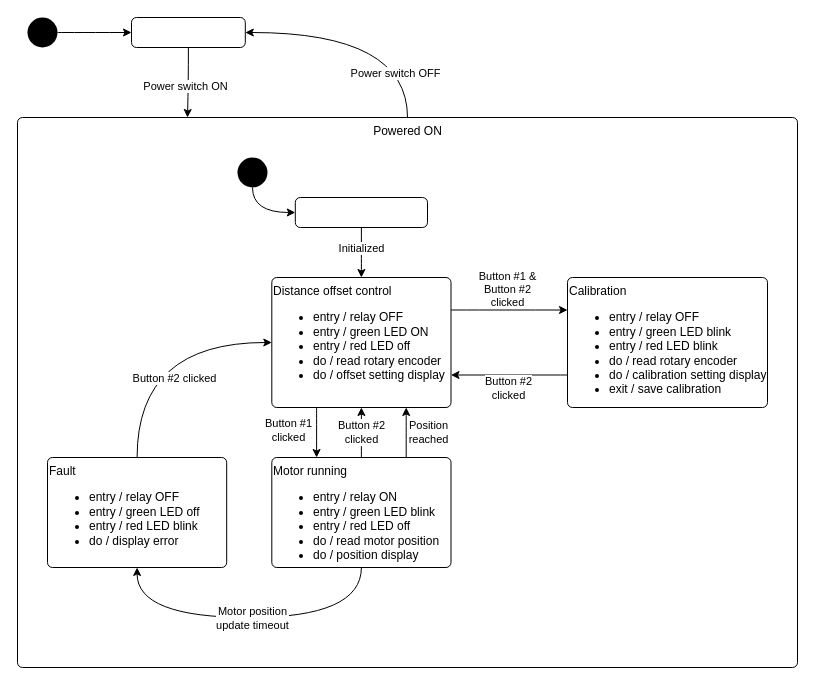
Some shapes in this 815 by 685 pixel diagram are drawn without their labels. Here are the shapes that lost their labels. From the top down, the centre of each, then its label:
At pixel 187 32: "Powered off".
At pixel 361 212: "Device initialisation".
